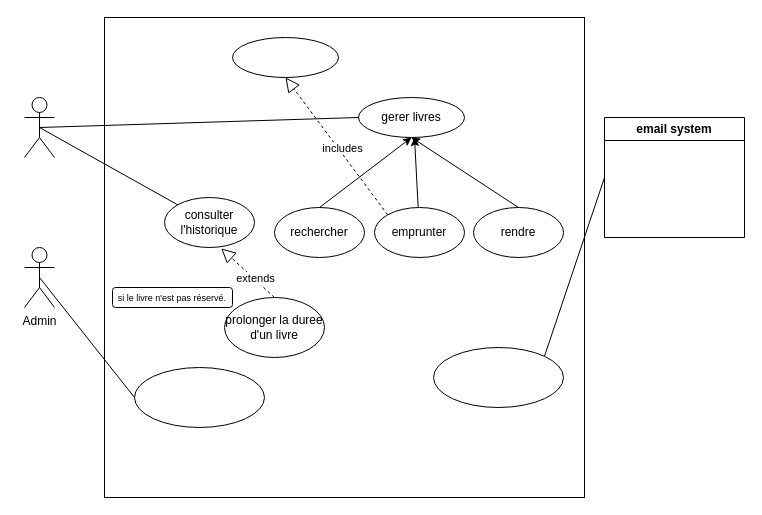
Image size: 762x515. Some labels were removed from this diagram. The centre of each missing label's shape, as x and y in pixels:
envoyer une notification: (x=498, y=377)
gère le catalogue et les comptes membres: (x=199, y=397)
Member: (x=39, y=127)
s'inscrire: (x=285, y=57)
